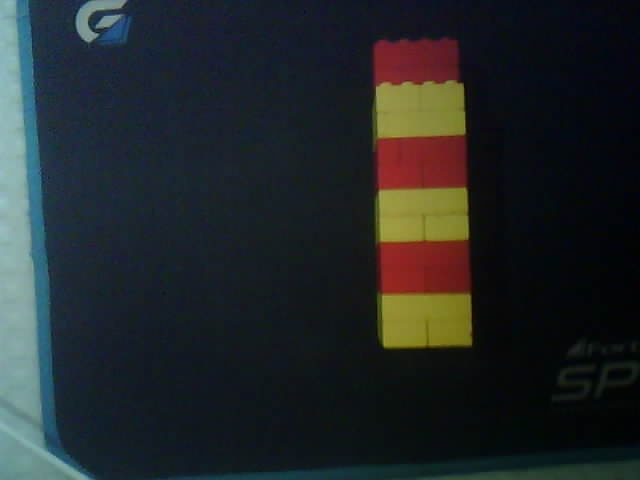lego: (370, 35, 475, 355)
